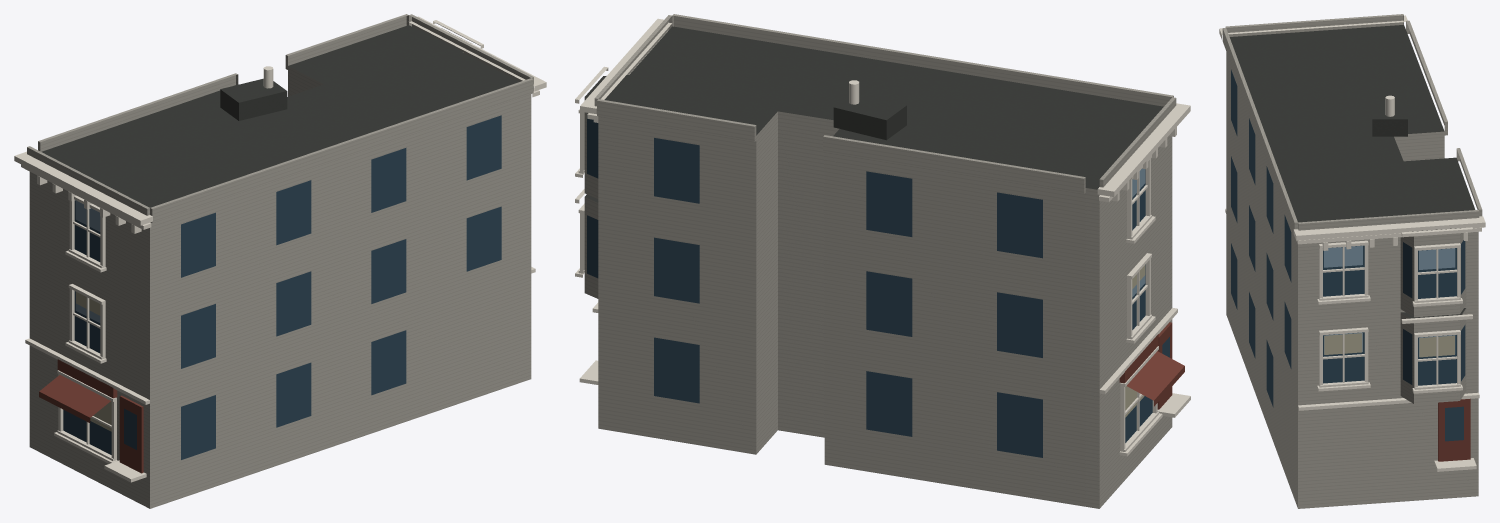
The picture shows the model from 3 angles, left to right: view 1: azimuth 30°, elevation 25°; view 2: azimuth 150°, elevation 25°; view 3: azimuth 270°, elevation 25°; orthographic projection. The views are drawn at different scales.
Visible parts, largest first — view 1: Footprint 0 / surface 2, Footprint 0 / surface 1, Inset glazing, Facade bay volumes, Cornices and window frames, Storefronts and doors, Inferred rooftop service enclosure / surface 5, Inferred rooftop service enclosure / surface 3, Sky reflection panels, Interior blind variation; view 2: Footprint 0 / surface 2, Footprint 0 / surface 1, Inset glazing, Facade bay volumes, Cornices and window frames, Storefronts and doors, Inferred rooftop service enclosure / surface 6, Inferred rooftop service enclosure / surface 3; view 3: Footprint 0 / surface 2, Footprint 0 / surface 1, Inset glazing, Cornices and window frames, Facade bay volumes, Sky reflection panels, Interior blind variation, Storefronts and doors, Inferred rooftop service enclosure / surface 3, Inferred rooftop service enclosure / surface 1.
Part boxes in pixels (<box>): Footprint 0 / surface 2: <box>29,66,531,508</box>; Footprint 0 / surface 1: <box>42,25,518,207</box>; Inset glazing: <box>63,115,501,459</box>; Facade bay volumes: <box>27,14,533,222</box>; Cornices and window frames: <box>14,16,546,482</box>; Storefronts and doors: <box>39,359,143,473</box>; Inferred rooftop service enclosure / surface 5: <box>239,91,287,120</box>; Inferred rooftop service enclosure / surface 3: <box>220,78,286,102</box>; Sky reflection panels: <box>75,200,100,322</box>; Interior blind variation: <box>76,292,111,431</box>; Footprint 0 / surface 2: <box>598,111,1172,508</box>; Footprint 0 / surface 1: <box>607,26,1163,189</box>; Inset glazing: <box>587,115,1169,457</box>; Facade bay volumes: <box>584,14,1176,298</box>; Cornices and window frames: <box>575,18,1190,456</box>; Storefronts and doors: <box>1119,322,1184,409</box>; Inferred rooftop service enclosure / surface 6: <box>833,107,886,140</box>; Inferred rooftop service enclosure / surface 3: <box>834,94,906,120</box>; Footprint 0 / surface 2: <box>1226,52,1478,508</box>; Footprint 0 / surface 1: <box>1229,25,1475,222</box>; Inset glazing: <box>1231,69,1465,441</box>; Cornices and window frames: <box>1219,15,1485,471</box>; Facade bay volumes: <box>1222,14,1482,404</box>; Sky reflection panels: <box>1324,245,1455,356</box>; Interior blind variation: <box>1324,333,1454,357</box>; Storefronts and doors: <box>1438,398,1470,461</box>; Inferred rooftop service enclosure / surface 3: <box>1372,97,1407,119</box>; Inferred rooftop service enclosure / surface 1: <box>1372,119,1407,136</box>.
Bounding box in the file's own units: 17.88 × 11.66 × 9.02.
